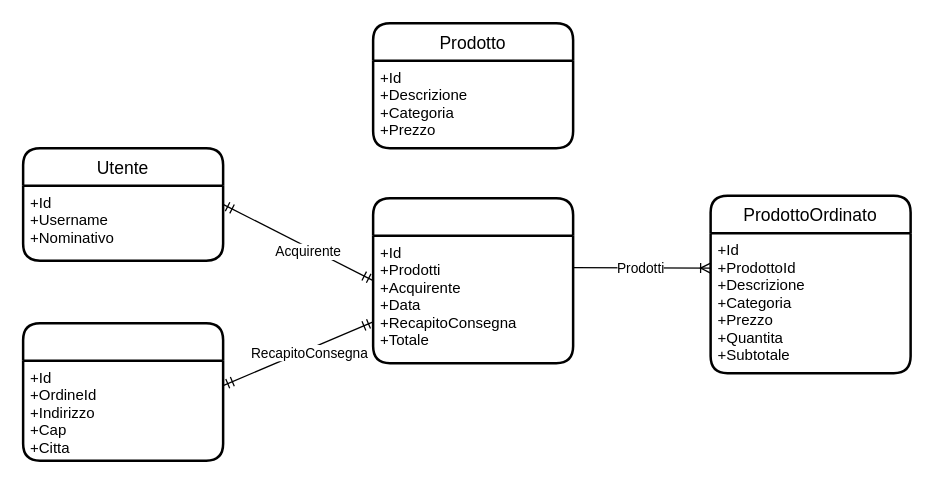
Image size: 933x483. Some labels were removed from this diagram. The box of each missing label's shape, as (x1, y1, x2, y2) in pixels:
Ordine: (371, 196, 574, 364)
Recapito: (21, 321, 224, 461)
